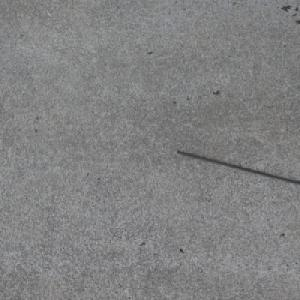LuggagePart: (175, 150, 300, 185)
